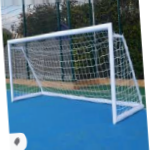goals: (5, 21, 145, 125)
